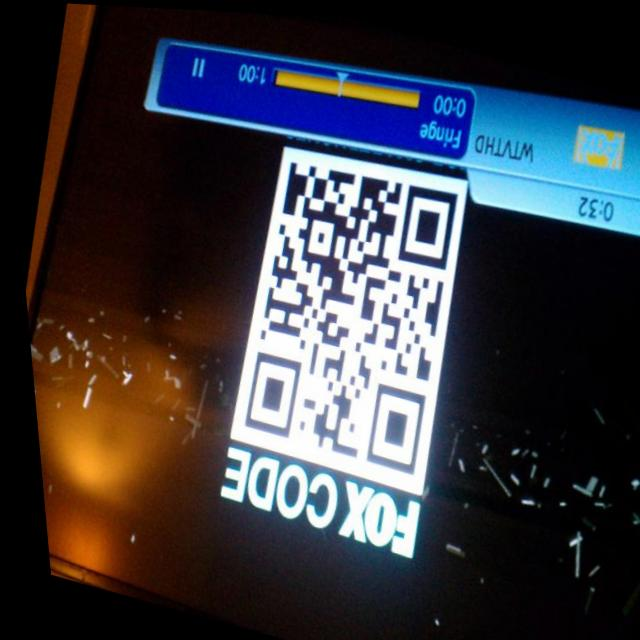qrcode: (216, 140, 473, 475)
